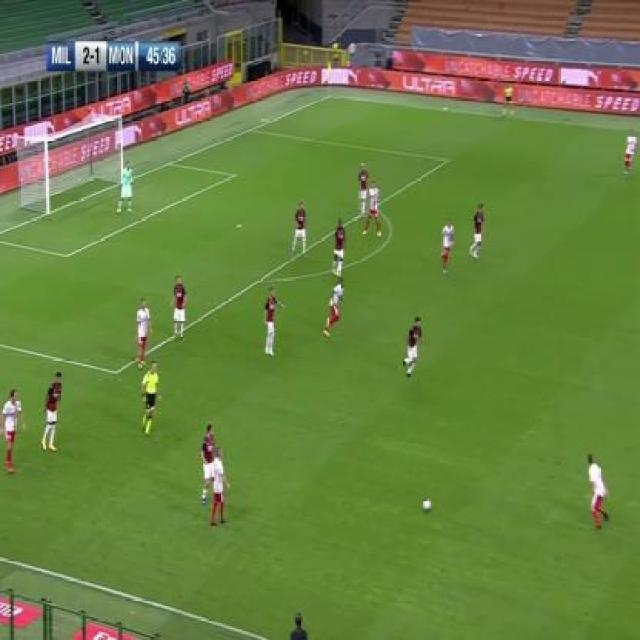ball: (422, 495, 433, 514)
player: (1, 389, 26, 472), (585, 453, 610, 530), (208, 446, 230, 526), (39, 376, 61, 455), (138, 361, 160, 437), (262, 286, 285, 357), (401, 315, 423, 378), (199, 423, 216, 503), (322, 283, 344, 339), (134, 296, 151, 367), (170, 276, 187, 342), (363, 181, 382, 237), (291, 198, 308, 257), (468, 202, 485, 259), (438, 218, 454, 275), (116, 161, 133, 214), (332, 219, 346, 276), (621, 130, 637, 176), (500, 82, 516, 124), (357, 159, 368, 213)
